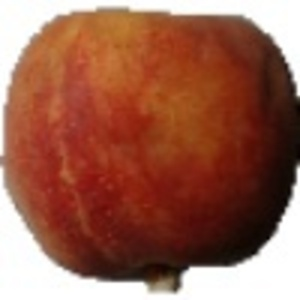pêssego: (1, 5, 300, 296)
